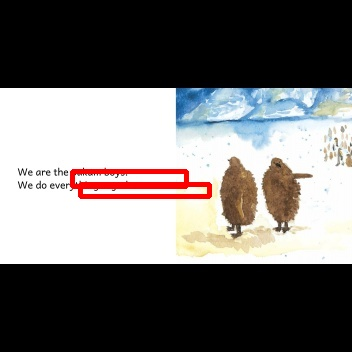latin: (15, 164, 129, 179), (16, 179, 145, 191)
